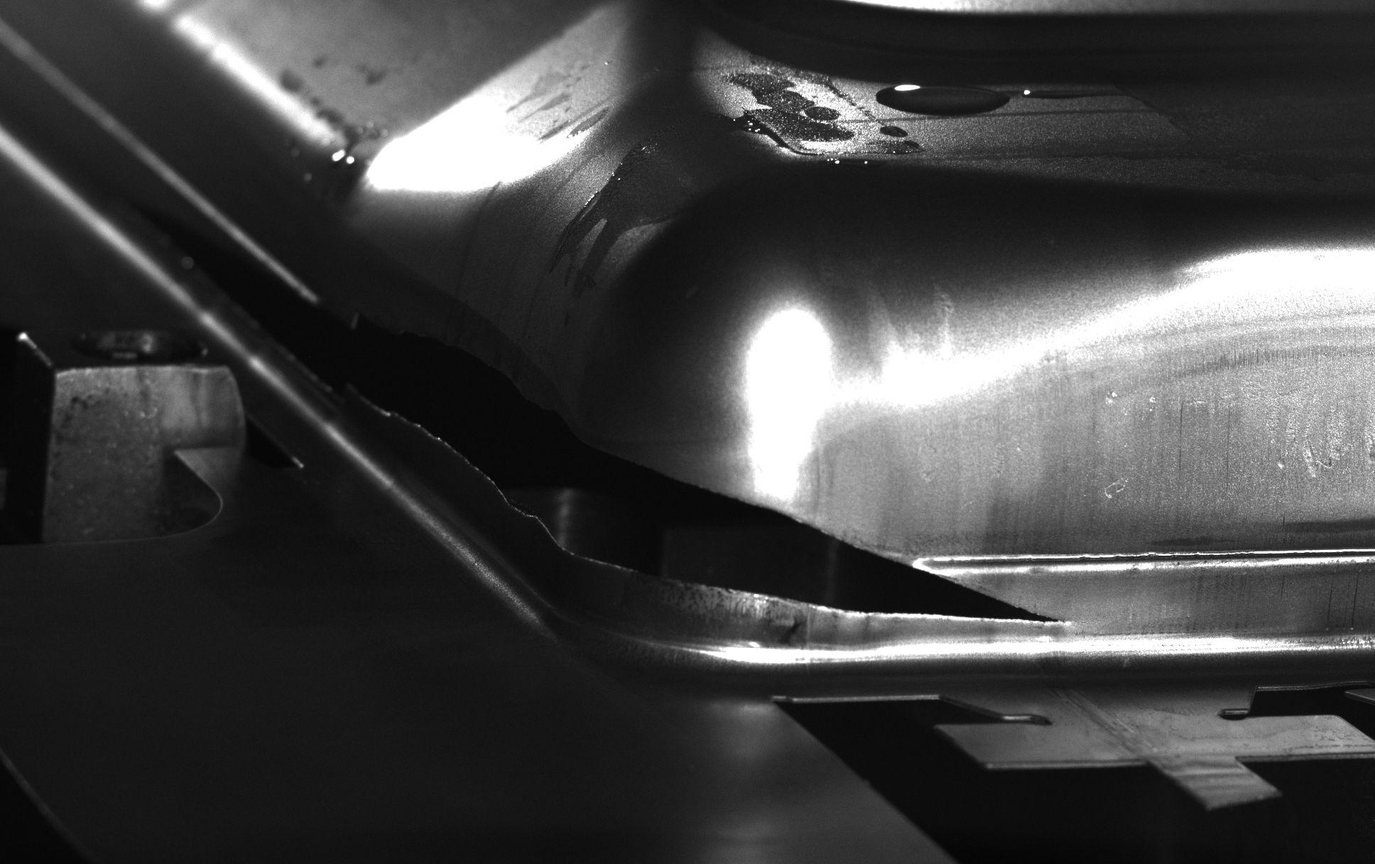crack: (115, 158, 1122, 672)
